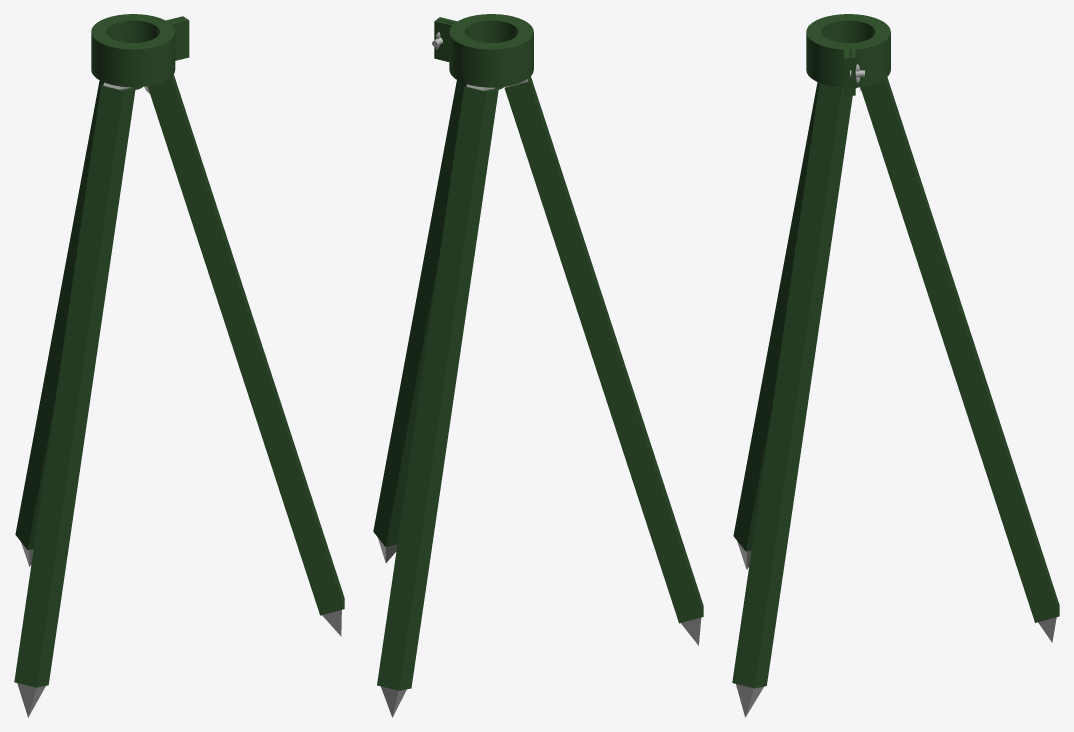
Rendered from trenoga.fbx.
3 views of the same model, side by side, from view 1: azimuth 30°, elevation 25°; view 2: azimuth 150°, elevation 25°; view 3: azimuth 270°, elevation 25° (orthographic).
Visible parts, largest first — view 1: Cube_2, Cube, Cube_1, Объект_Труба, Объект_Куб; view 2: Cube_1, Cube_2, Cube, Объект_Труба, Объект_Куб_1; view 3: Cube, Cube_1, Cube_2, Объект_Труба.
Boxes of the visible parts, bbox=[...] form: Cube_2: bbox=[14, 85, 135, 687]; Cube: bbox=[147, 74, 344, 615]; Cube_1: bbox=[15, 80, 103, 549]; Объект_Труба: bbox=[91, 14, 175, 87]; Объект_Куб: bbox=[166, 18, 189, 60]; Cube_1: bbox=[377, 86, 498, 690]; Cube_2: bbox=[504, 76, 703, 623]; Cube: bbox=[373, 80, 466, 546]; Объект_Труба: bbox=[449, 14, 533, 87]; Объект_Куб_1: bbox=[434, 19, 457, 61]; Cube: bbox=[732, 83, 852, 688]; Cube_1: bbox=[860, 77, 1059, 622]; Cube_2: bbox=[733, 82, 819, 551]; Объект_Труба: bbox=[806, 14, 890, 87].
Bounding box in the file's own units: 223 × 396 × 191.
